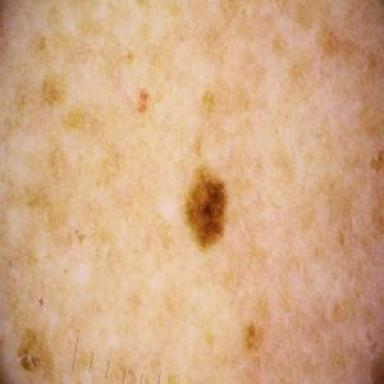Melanoma: (185, 166, 227, 249)
